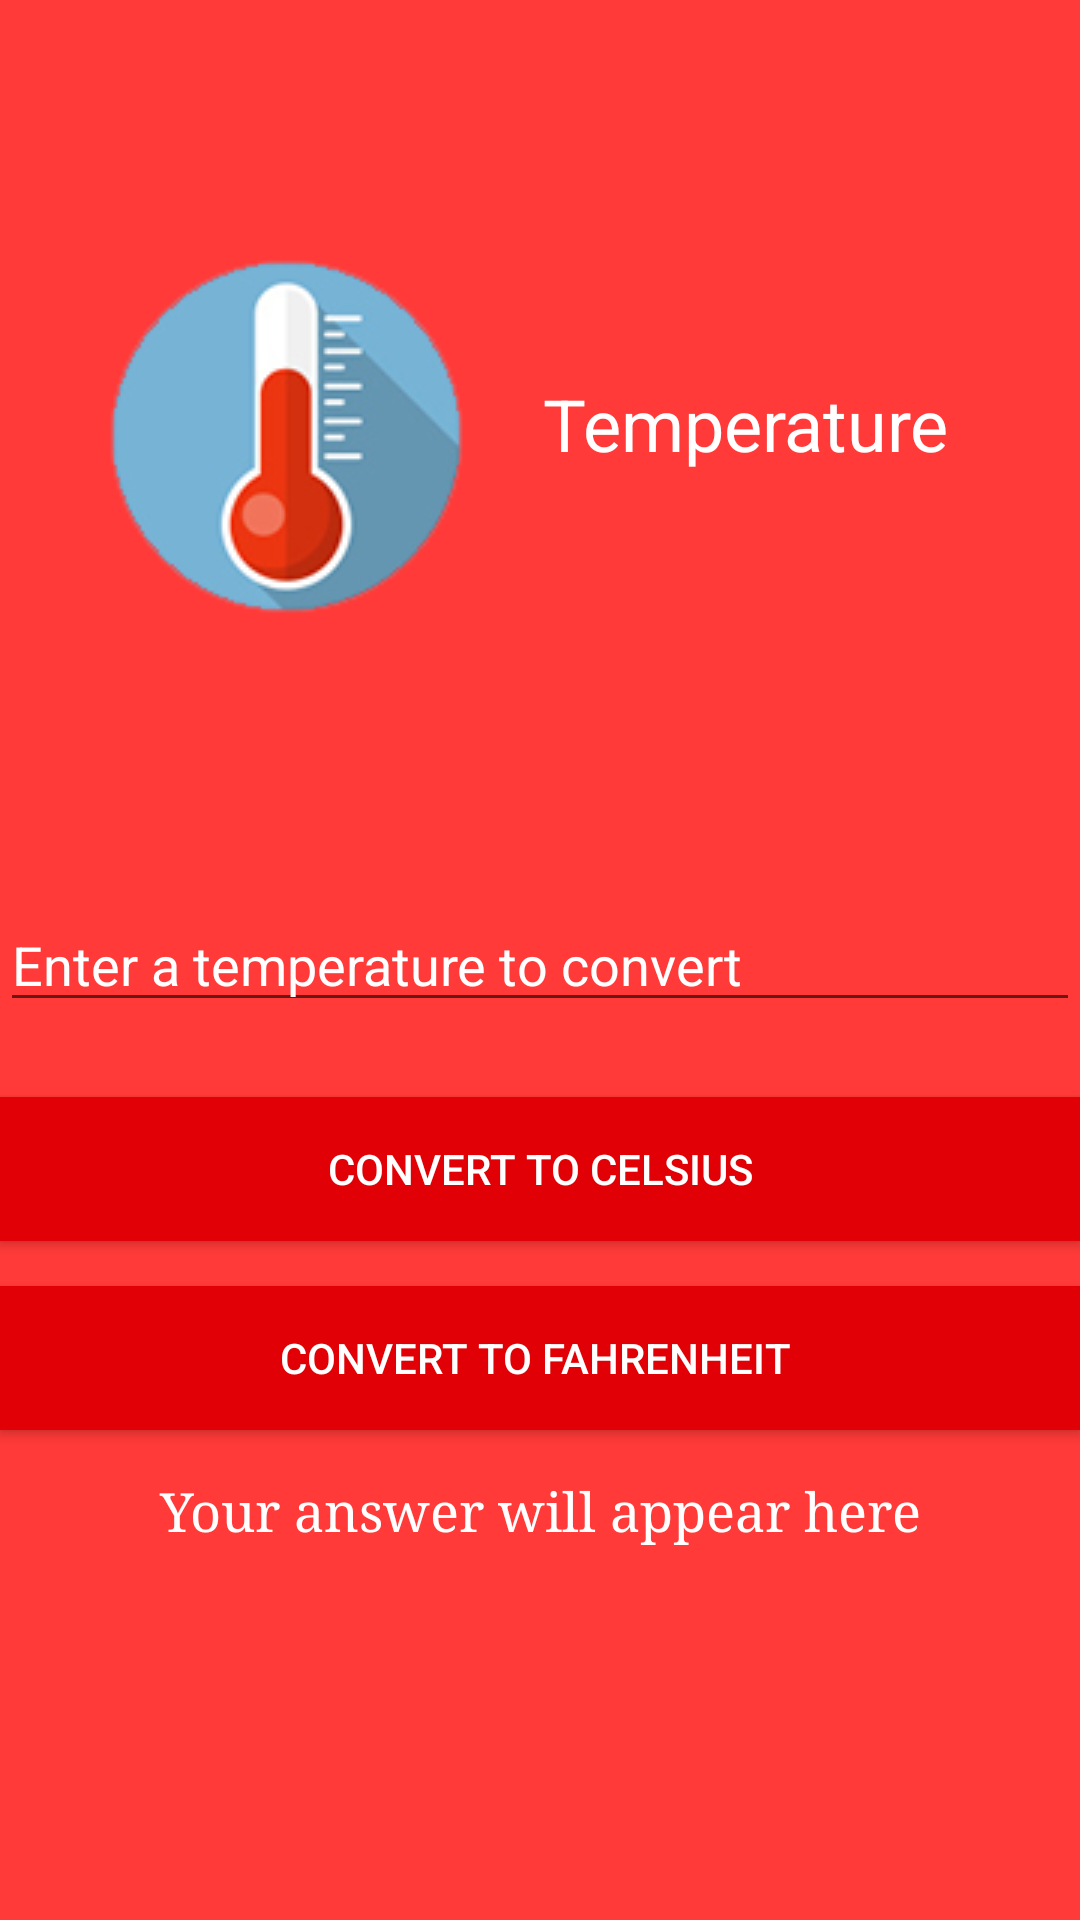

Named icons in this screenshot (1080px x 1920px) and their bounding boxes, (x1, y1, x2, y2):
thermometer: (111, 261, 462, 612)
